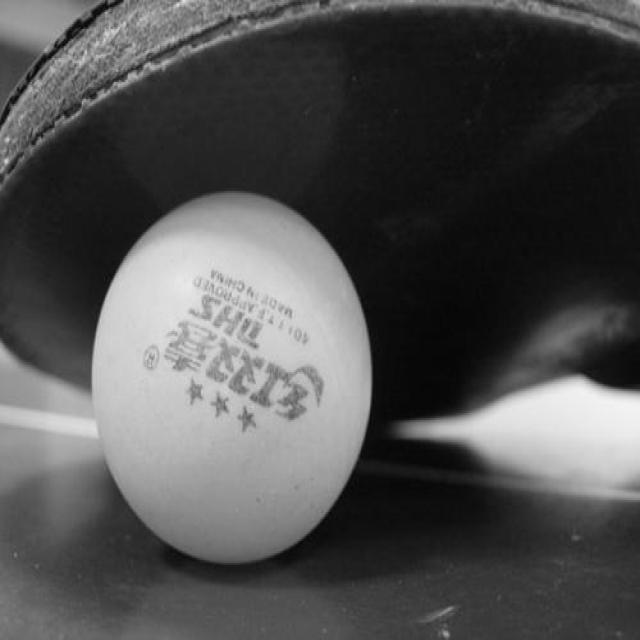ping-pong-ball: (92, 187, 376, 565)
